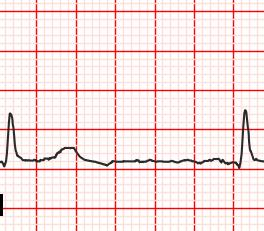LVH: (45, 143, 95, 163)
